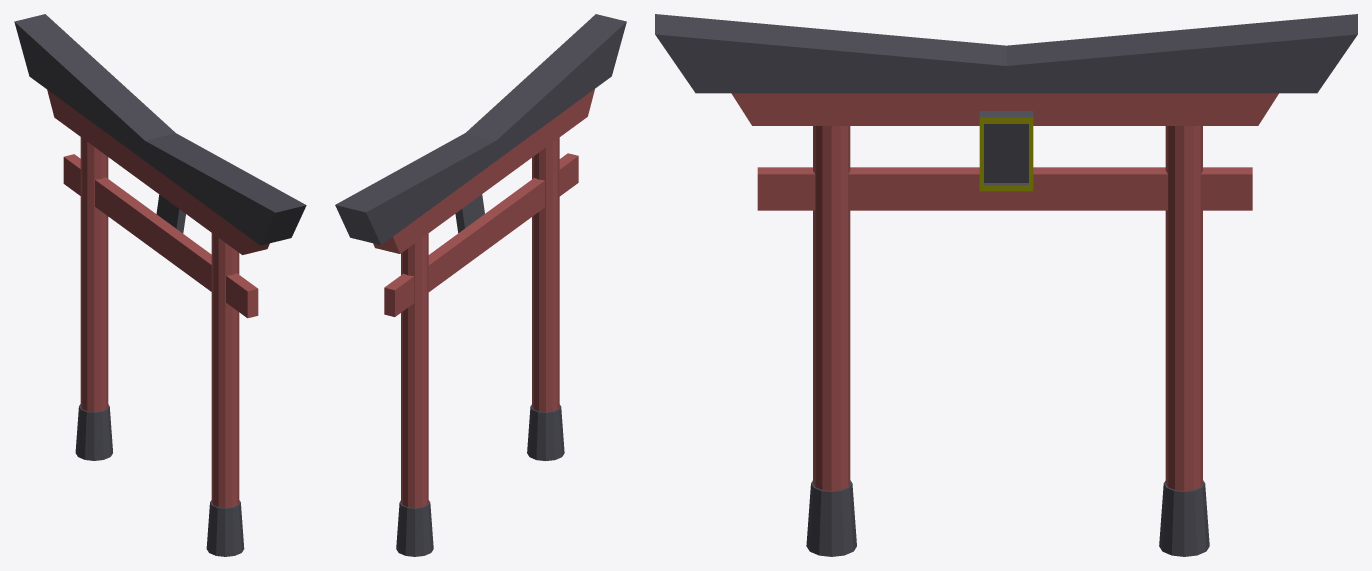
The model's file is Gate.fbx.
3 views of the same model, side by side, from view 1: azimuth 30°, elevation 25°; view 2: azimuth 150°, elevation 25°; view 3: azimuth 270°, elevation 25° (orthographic). The views are drawn at different scales.
Parts seen in each view (by area): view 1: pCube5; view 2: pCube5; view 3: pCube5.
Boxes of the visible parts, x1,y1,x2,y2 form: pCube5: [14, 14, 306, 556]; pCube5: [335, 14, 626, 556]; pCube5: [655, 14, 1357, 556].
Bounding box in the file's own units: 0.5877 × 5.82 × 7.1.
